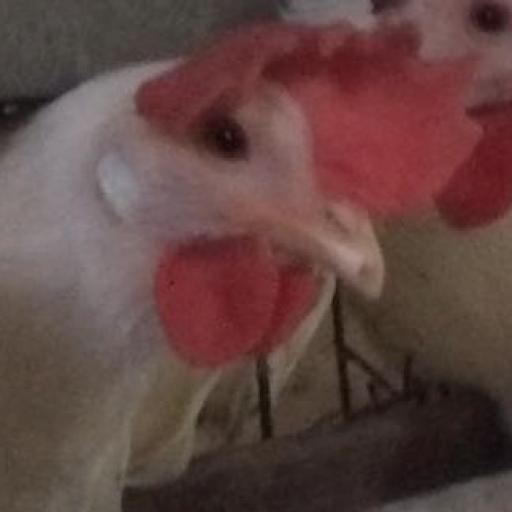healthy: (149, 10, 422, 316)
